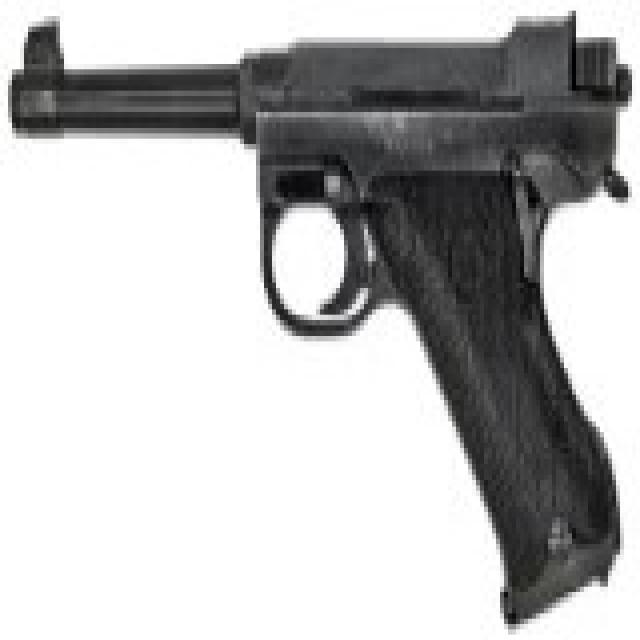Gun: (4, 7, 634, 602)
